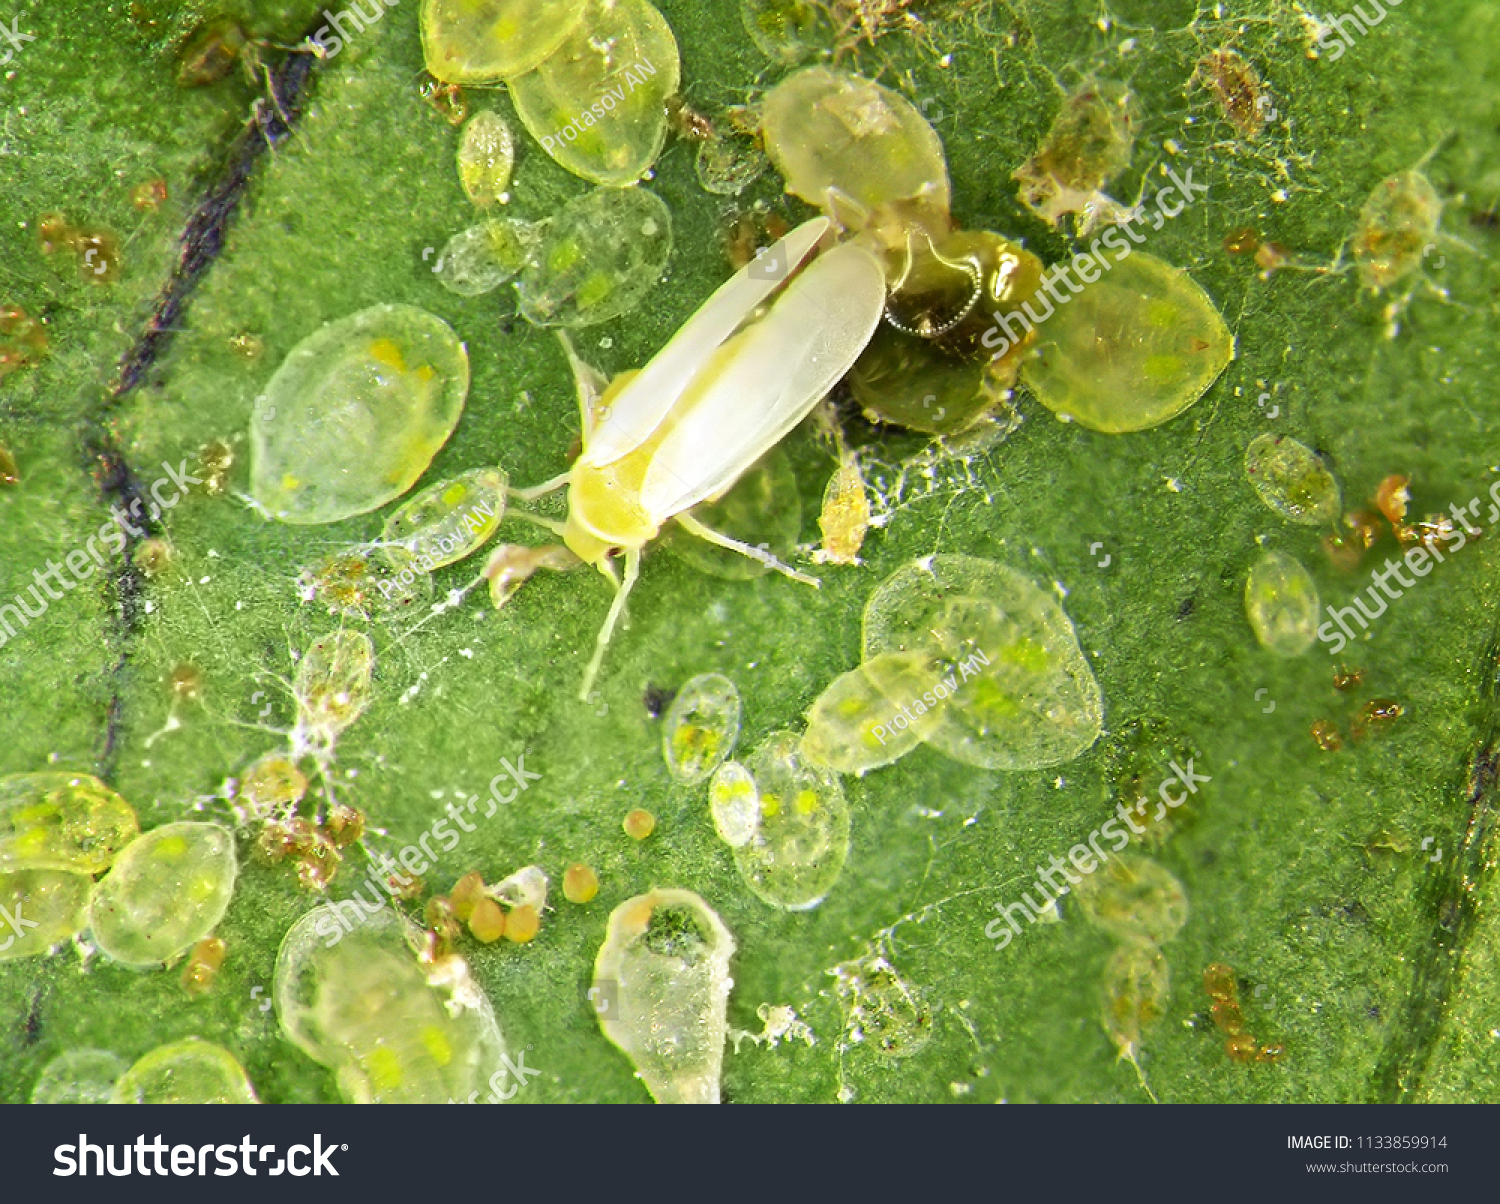Tobacco Whitefly: (551, 226, 944, 606)
